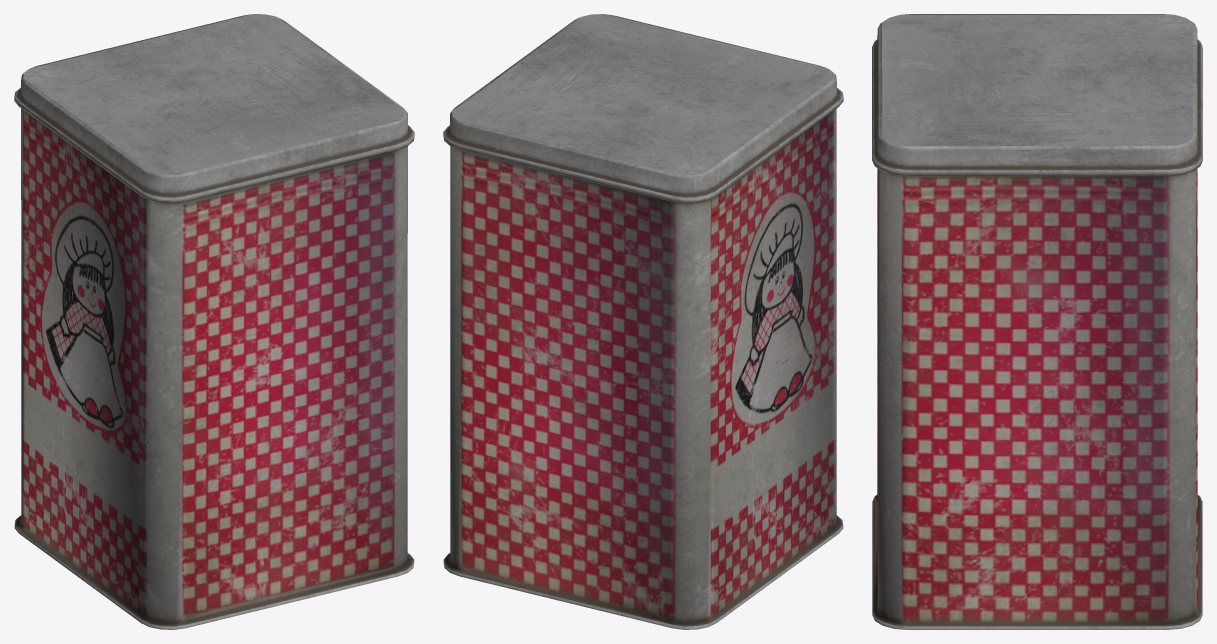
Rendered from species_container_metal.glb.
3 renders of one model, left to right at view 1: azimuth 30°, elevation 25°; view 2: azimuth 150°, elevation 25°; view 3: azimuth 270°, elevation 25°, orthographic. The views are drawn at different scales.
Parts seen in each view (by area): view 1: species_container; view 2: species_container; view 3: species_container.
Part boxes in pixels (left/top/right/bottom): species_container: left=14, top=14, right=414, bottom=629; species_container: left=443, top=14, right=843, bottom=629; species_container: left=872, top=14, right=1202, bottom=629.
Bounding box in the file's own units: 4.24 × 6.78 × 4.24.
Materials: 1 (1 with a texture image).
